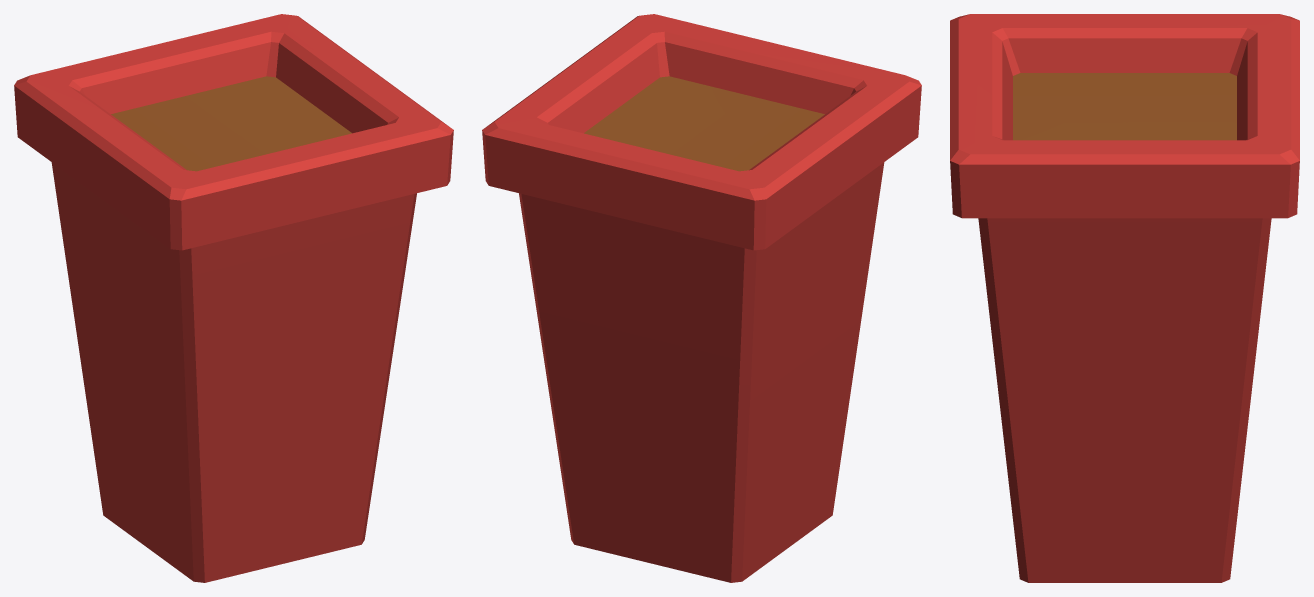
Rendered from PlantPot_2_F.fbx.
3 renders of one model, left to right at view 1: azimuth 30°, elevation 25°; view 2: azimuth 150°, elevation 25°; view 3: azimuth 270°, elevation 25°, orthographic. The views are drawn at different scales.
Parts seen in each view (by area): view 1: PlantPot_2_F; view 2: PlantPot_2_F; view 3: PlantPot_2_F.
Part boxes in pixels (left/top/right/bottom): PlantPot_2_F: left=14, top=14, right=453, bottom=582; PlantPot_2_F: left=482, top=14, right=921, bottom=582; PlantPot_2_F: left=950, top=14, right=1299, bottom=582.
Bounding box in the file's own units: 36.24 × 51.92 × 36.24.
